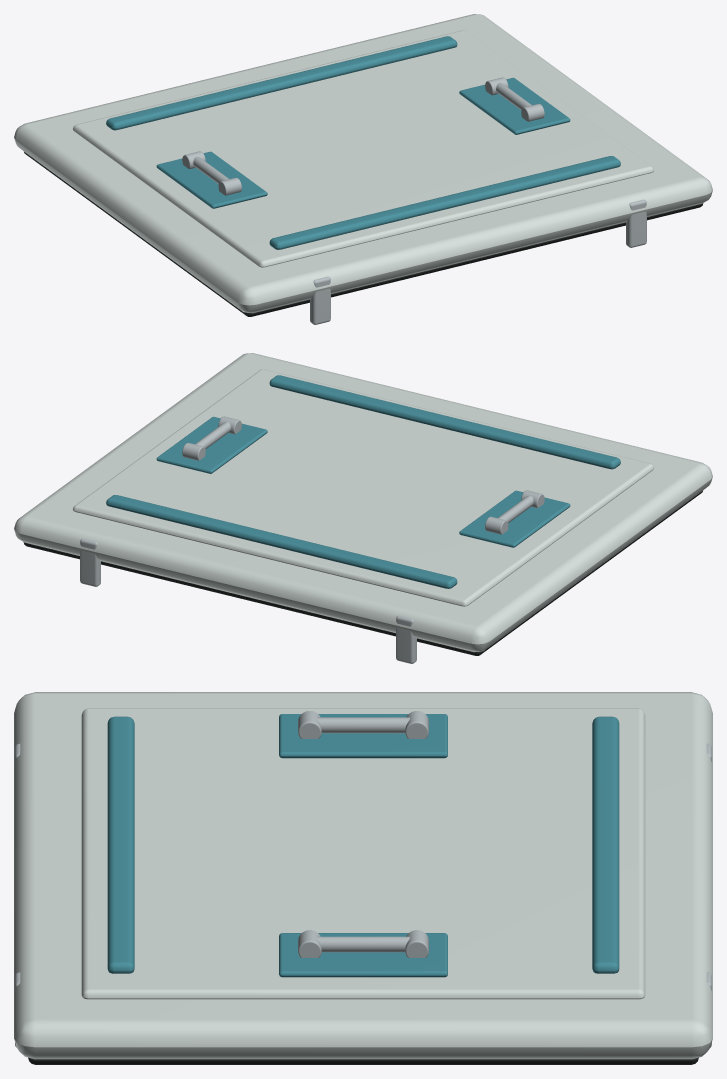
The model's file is catch_tank_lid.glb.
3 renders of one model, top to bottom at view 1: azimuth 30°, elevation 25°; view 2: azimuth 150°, elevation 25°; view 3: azimuth 270°, elevation 25°, orthographic. The views are drawn at different scales.
Visible parts, largest first — view 1: Fixed_FishBoxPolymer, Fixed_FishBoxBlue, Fixed_Stainless, Fixed_Rubber; view 2: Fixed_FishBoxPolymer, Fixed_FishBoxBlue, Fixed_Stainless, Fixed_Rubber; view 3: Fixed_FishBoxPolymer, Fixed_FishBoxBlue, Fixed_Stainless, Fixed_Rubber.
Part boxes in pixels (bbox=[...]): Fixed_FishBoxPolymer: bbox=[14, 14, 712, 313]; Fixed_FishBoxBlue: bbox=[106, 36, 620, 249]; Fixed_Stainless: bbox=[182, 77, 646, 324]; Fixed_Rubber: bbox=[24, 152, 703, 316]; Fixed_FishBoxPolymer: bbox=[14, 353, 712, 652]; Fixed_FishBoxBlue: bbox=[106, 375, 620, 588]; Fixed_Stainless: bbox=[80, 416, 544, 663]; Fixed_Rubber: bbox=[23, 491, 702, 655]; Fixed_FishBoxPolymer: bbox=[14, 692, 712, 1059]; Fixed_FishBoxBlue: bbox=[107, 714, 619, 977]; Fixed_Stainless: bbox=[15, 711, 711, 1047]; Fixed_Rubber: bbox=[28, 1057, 698, 1064].
Bounding box in the file's own units: 1.44 × 0.203 × 1.24.
